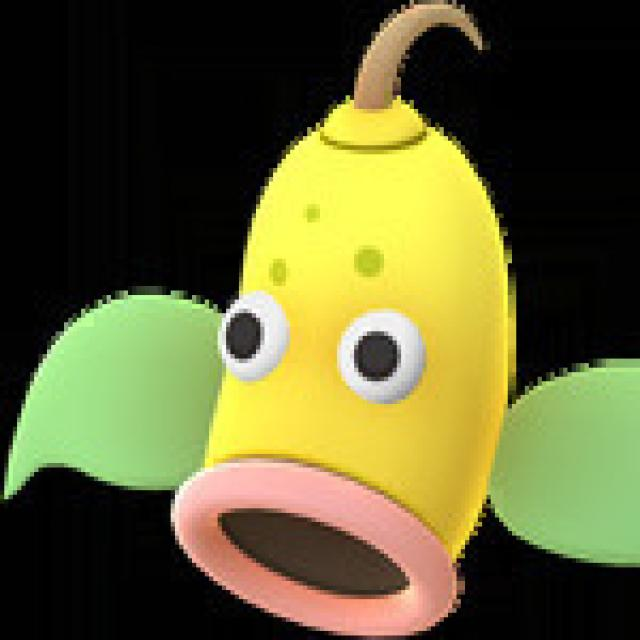Weepinbell: (164, 83, 541, 640)
